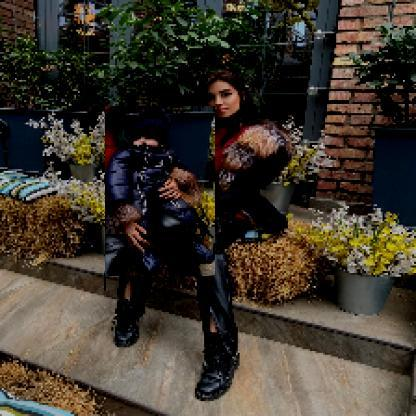child: (106, 107, 217, 278)
